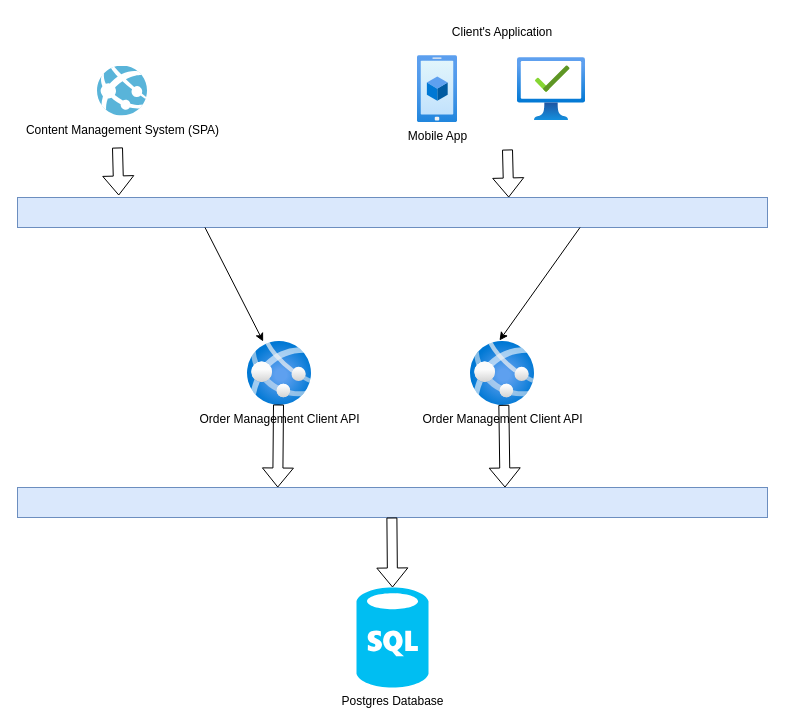
The diagram is 785 pixels wide and 725 high, and some of its shapes have lost their labels. The shapes that lost their labels are listed below. From the top down, each one's centre as x and y in pixels, then its label:
At [551,88]: "Desktop App".
At [392,212]: "API Gateway using YARP".
At [392,502]: "Infrastructure Layer".
